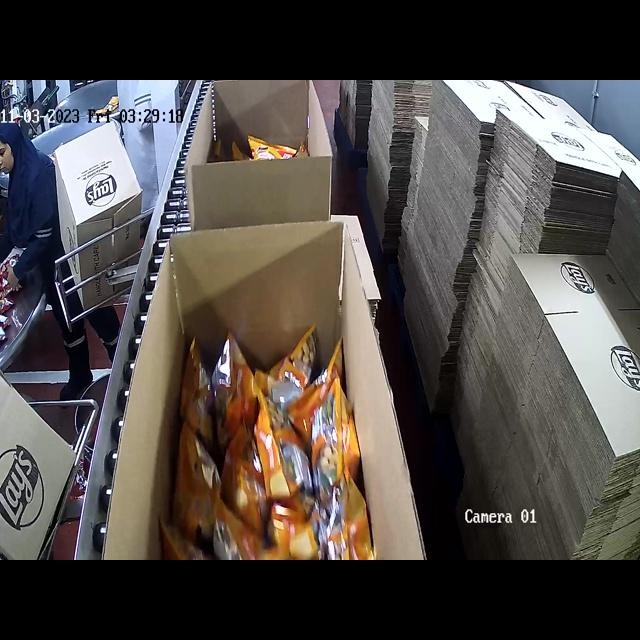cheese: (185, 322, 384, 560), (215, 123, 310, 157)
